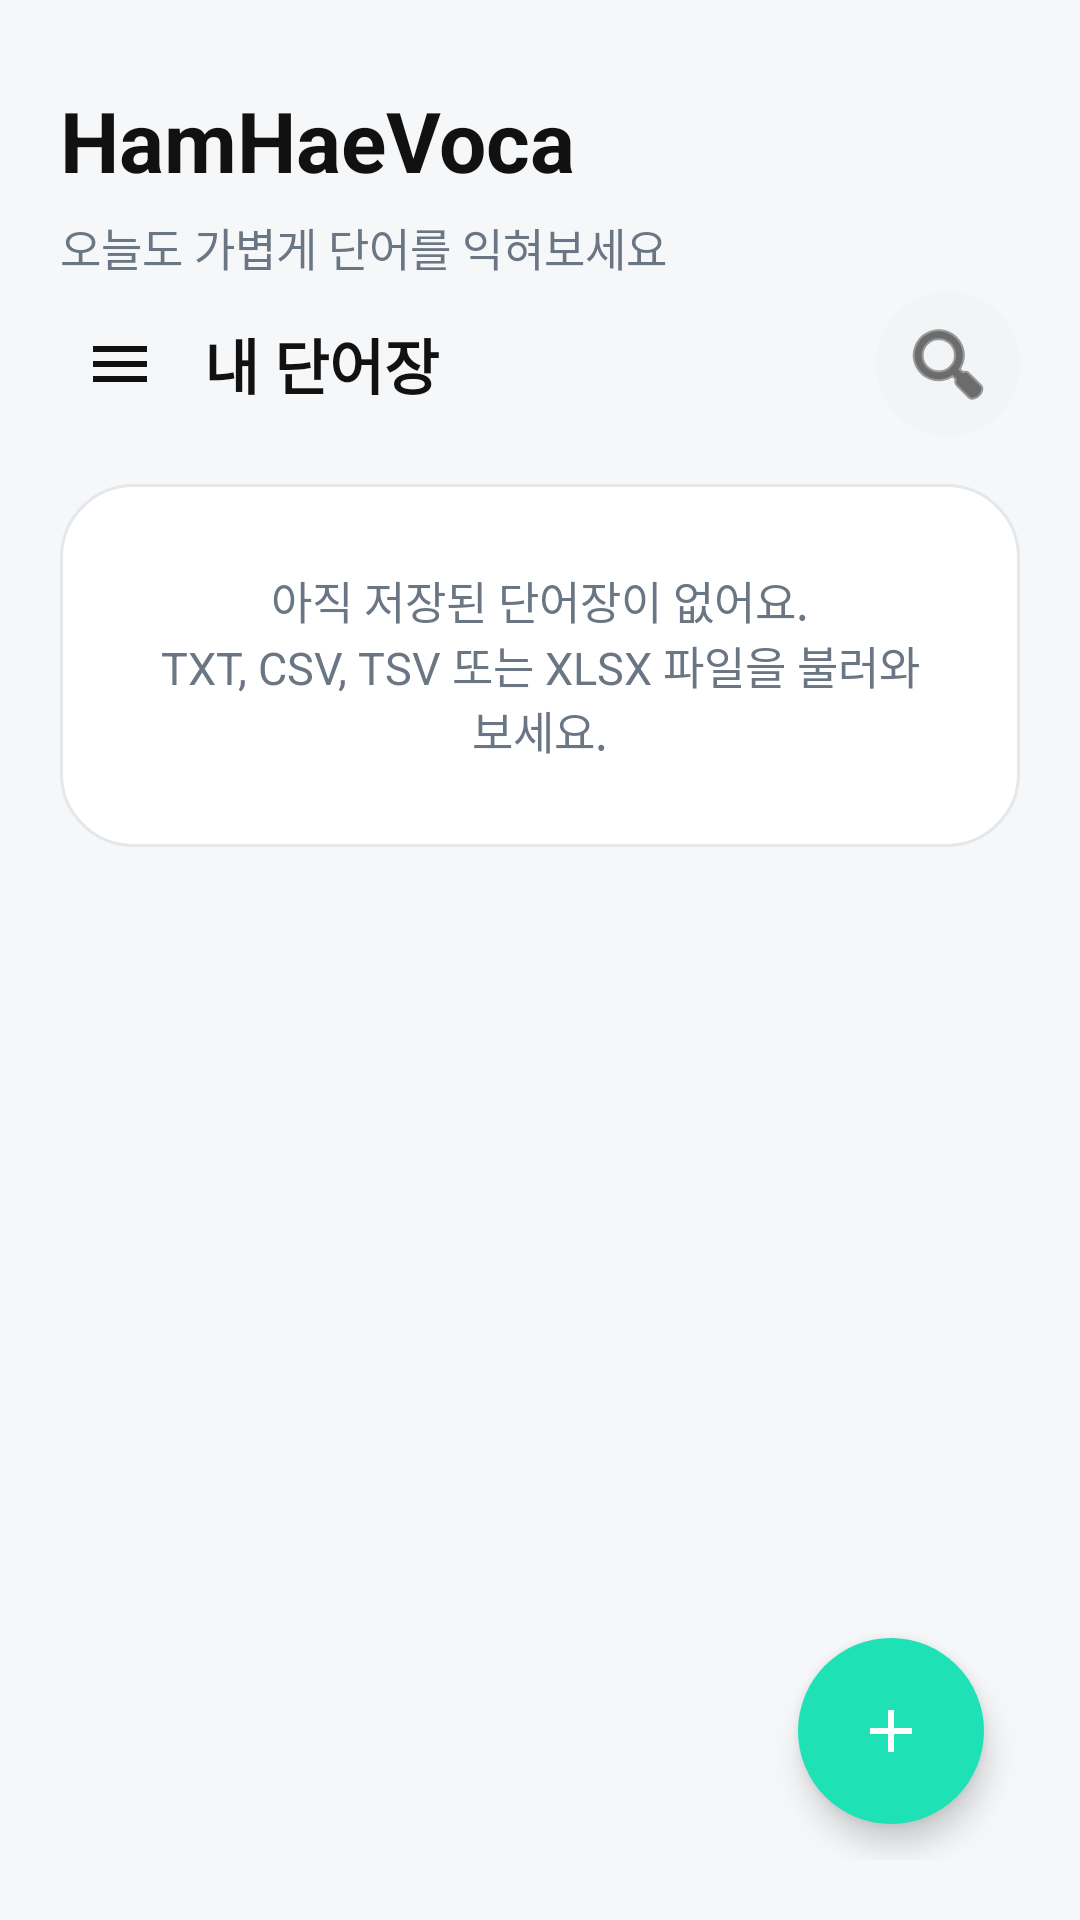

Icon bounding boxes for this 1080px x 1920px phone screenshot, format bbox=(x1, y1, x2, y2):
단어장 검색 열기 또는 닫기: bbox=(912, 329, 984, 400)
새 단어장: bbox=(798, 1638, 984, 1824)
폴더 선택 및 관리: bbox=(93, 346, 147, 382)
